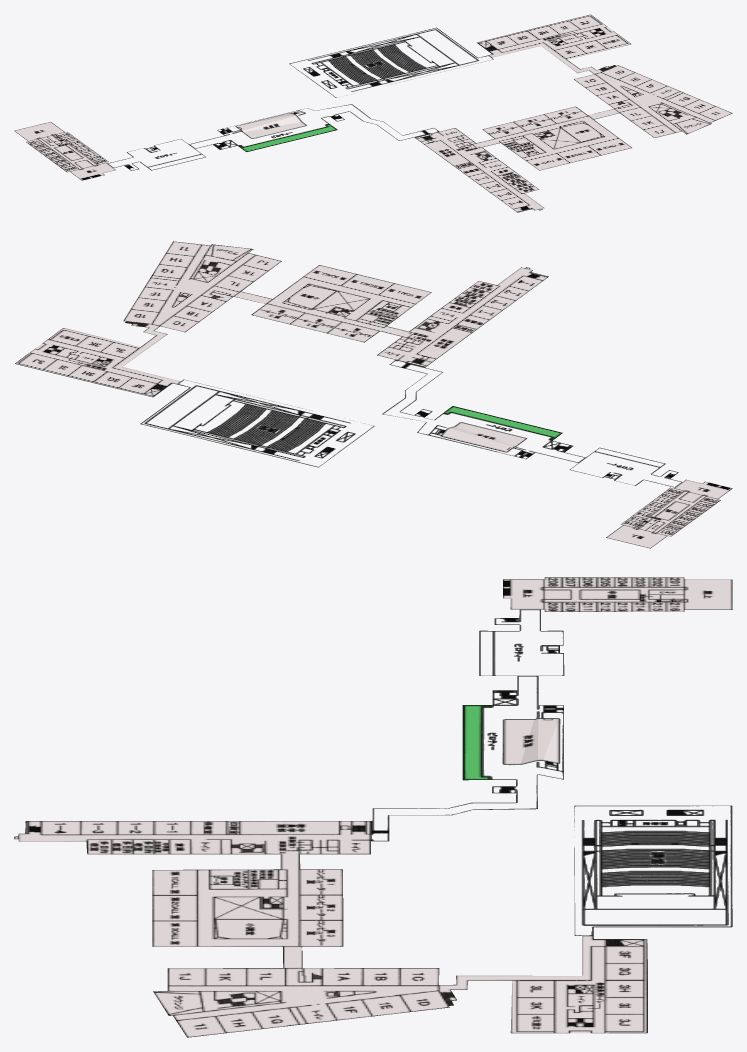
File: story1.obj
3 renders of one model, top to bottom at view 1: azimuth 30°, elevation 25°; view 2: azimuth 150°, elevation 25°; view 3: azimuth 270°, elevation 25°, orthographic. The views are drawn at different scales.
Bounding box in the file's own units: 1.26 × 0.00664 × 0.8309.
1 material, 1 textured.
